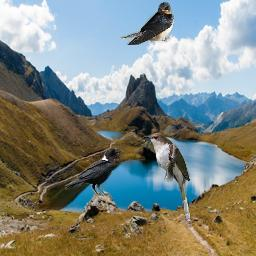Crow: (64, 146, 123, 197)
Cuckoo: (142, 132, 191, 222)
Swallow: (120, 2, 174, 45)
